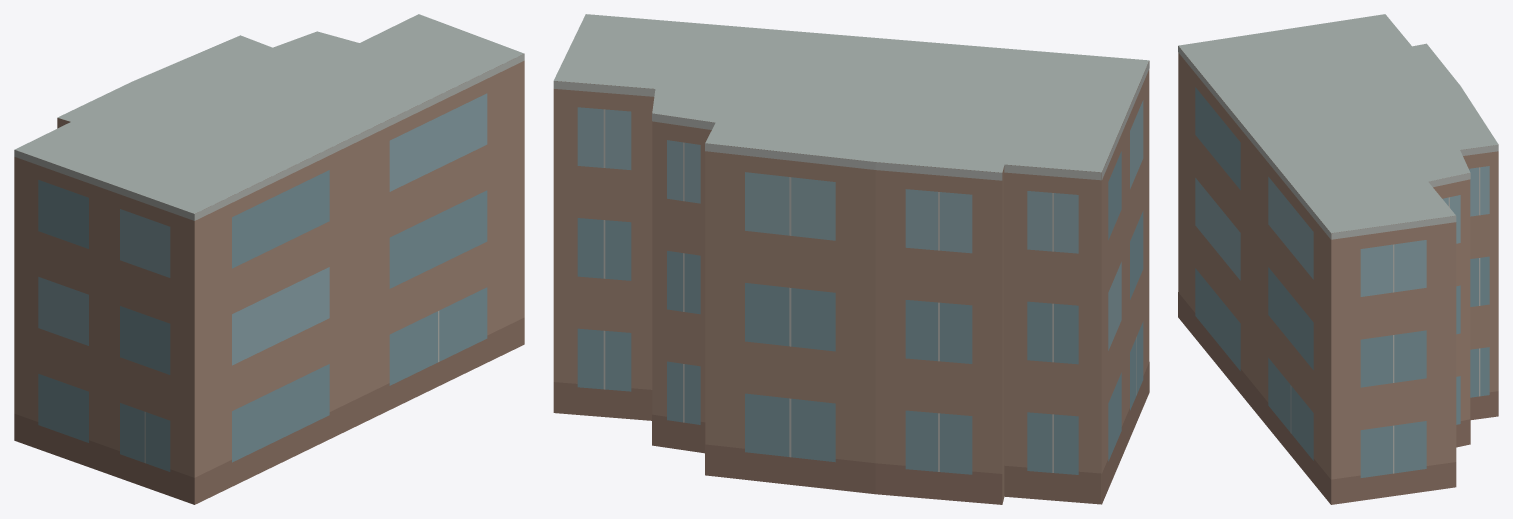
The model's file is survey-upis-32918001.glb.
3 renders of one model, left to right at view 1: azimuth 30°, elevation 25°; view 2: azimuth 150°, elevation 25°; view 3: azimuth 270°, elevation 25°, orthographic. The views are drawn at different scales.
Visible parts, largest first — view 1: survey-upis-32918001.tmp; view 2: survey-upis-32918001.tmp; view 3: survey-upis-32918001.tmp.
Part boxes in pixels (x1,y1,x2,y2): survey-upis-32918001.tmp: (14, 14, 524, 504); survey-upis-32918001.tmp: (553, 14, 1149, 504); survey-upis-32918001.tmp: (1178, 14, 1498, 504).
Bounding box in the file's own units: 17.49 × 10.1 × 10.81.
